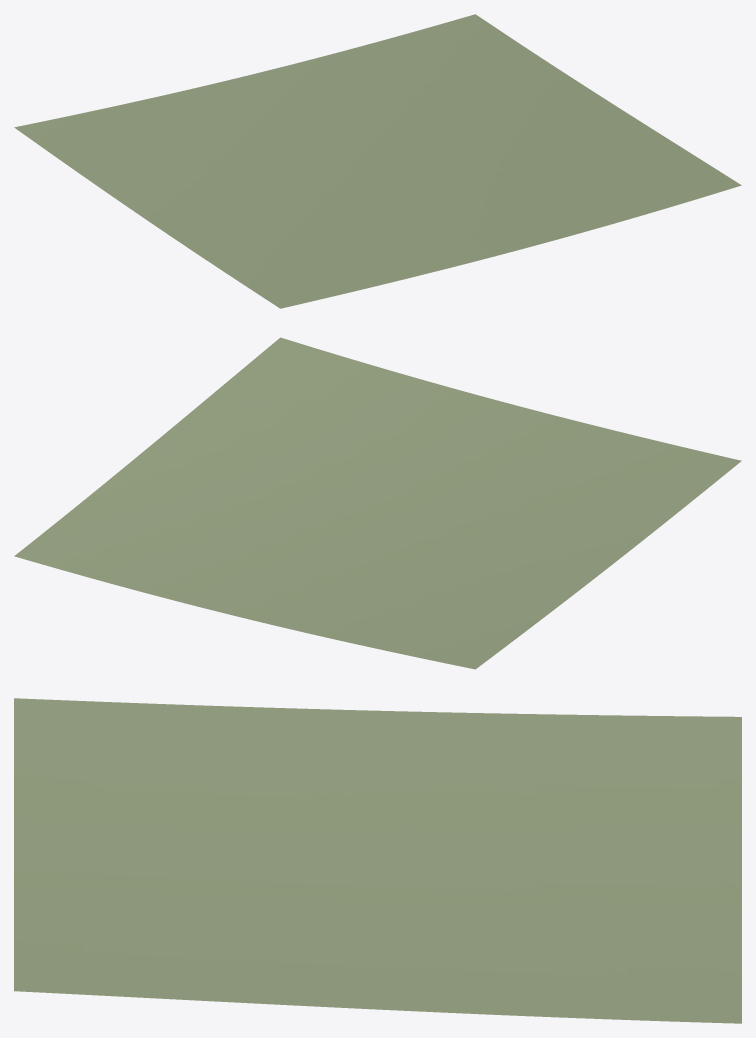
File: expanse-3-24.glb
3 views of the same model, one above another, from view 1: azimuth 30°, elevation 25°; view 2: azimuth 150°, elevation 25°; view 3: azimuth 270°, elevation 25° (orthographic). The views are drawn at different scales.
Parts seen in each view (by area): view 1: expanse-3-24; view 2: expanse-3-24; view 3: expanse-3-24.
Part boxes in pixels (<box>): expanse-3-24: <box>14,14,741,308</box>; expanse-3-24: <box>14,337,741,669</box>; expanse-3-24: <box>14,698,741,1023</box>.
Size of the model in its own units: 256 by 15.68 by 256.
